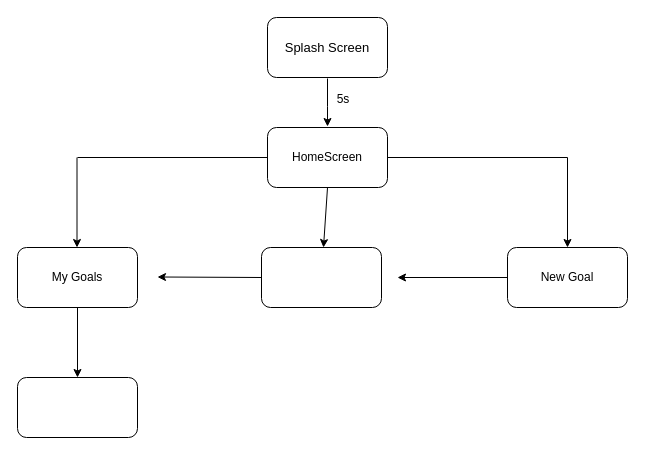
Some shapes in this 645 by 455 pixel diagram are drawn without their labels. The shapes that lost their labels are listed below. From the top down, each one's centre as x and y in pixels, then its label:
(321,277): Today's Goals
(77,407): Search Goal
